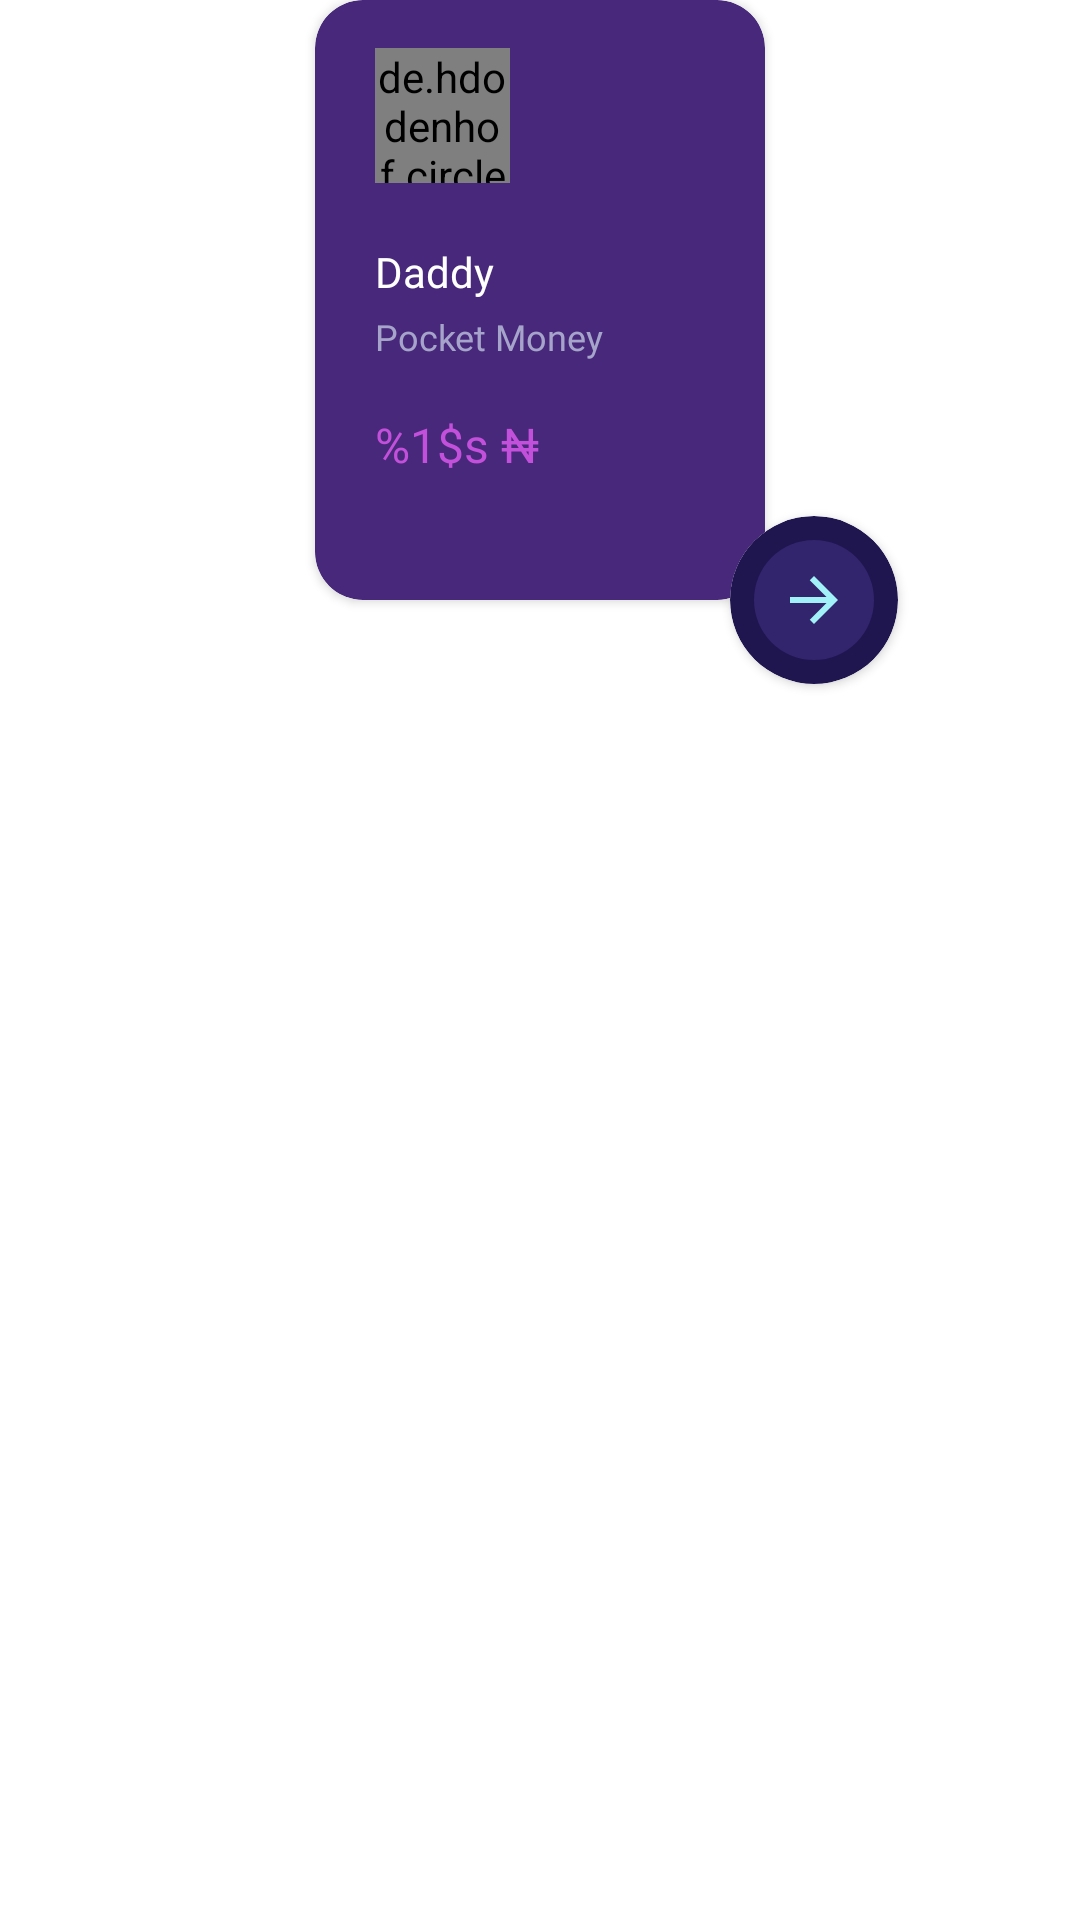

Screen size 1080px×1920px. Icon name, then its box in pixels as (x1, y1, x2, y2):
arrow forward: (730, 516, 898, 684)
